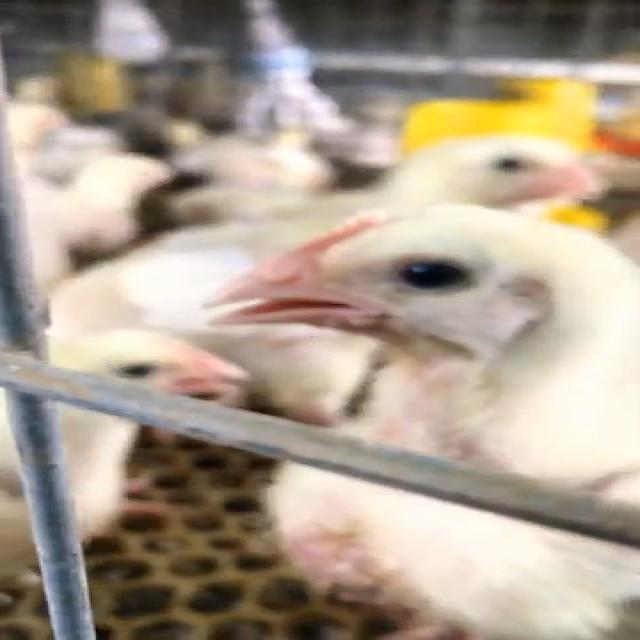Breathing: (176, 192, 638, 637)
